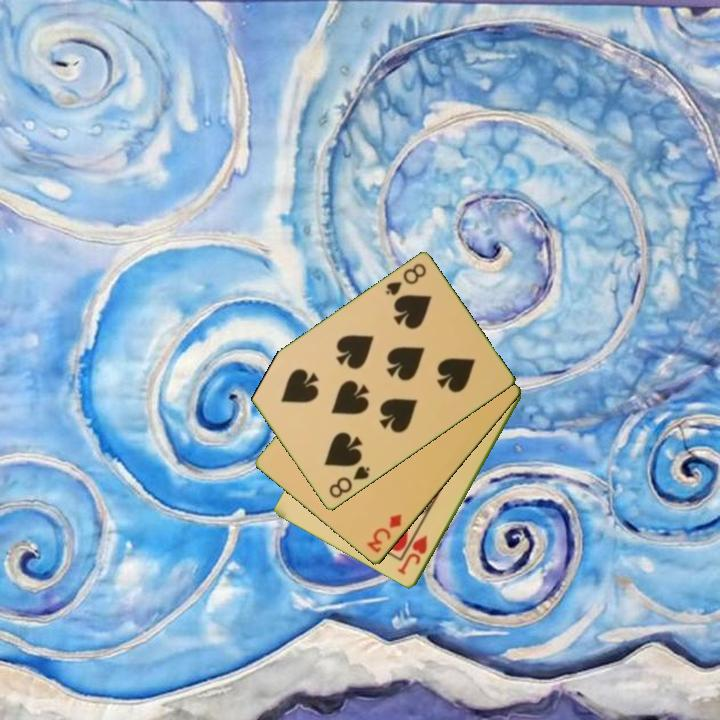3d: (363, 511, 405, 556)
8s: (325, 463, 373, 502), (382, 260, 429, 299)
Jh: (394, 532, 431, 578)
